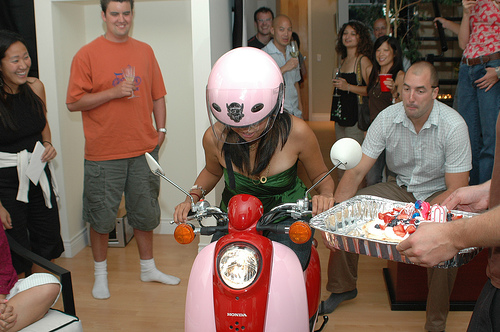helmet: (205, 48, 285, 130)
